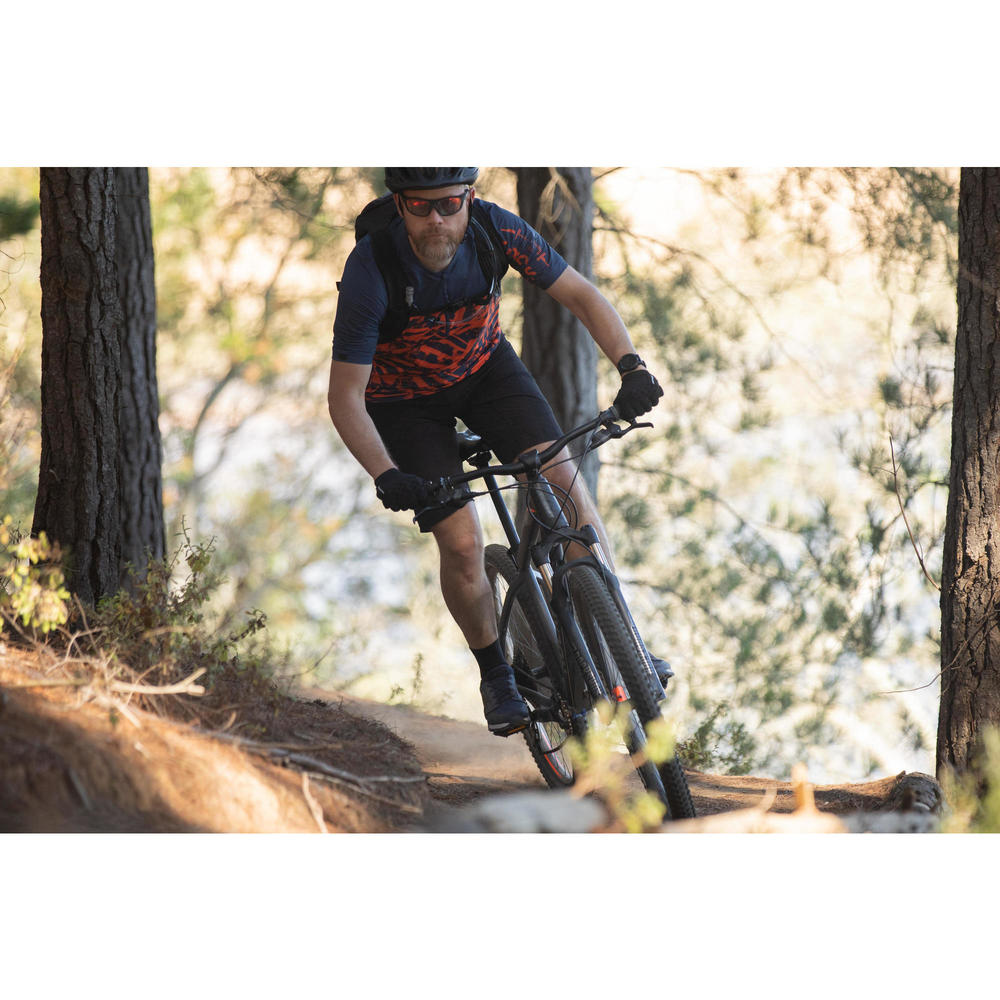MountainBike: (388, 381, 693, 828)
